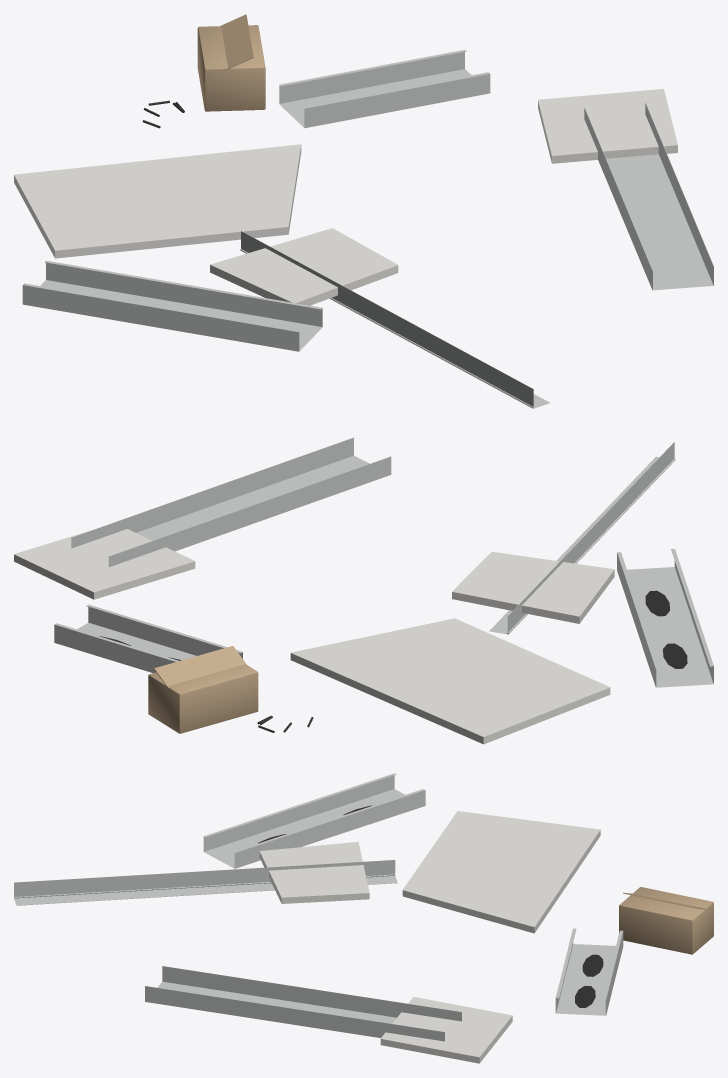
The model's file is Kit_TIScrap_B.fbx.
3 views of the same model, one above another, from view 1: azimuth 30°, elevation 25°; view 2: azimuth 150°, elevation 25°; view 3: azimuth 270°, elevation 25° (orthographic). The views are drawn at different scales.
Parts seen in each view (by area): view 1: Kit_TIScrap_B_LOD0; view 2: Kit_TIScrap_B_LOD0; view 3: Kit_TIScrap_B_LOD0.
Part boxes in pixels (bbox=[...]): Kit_TIScrap_B_LOD0: bbox=[14, 14, 713, 408]; Kit_TIScrap_B_LOD0: bbox=[14, 437, 713, 744]; Kit_TIScrap_B_LOD0: bbox=[14, 773, 713, 1063].
Size of what is drawn, in the model's own units: 1.18 by 0.0874 by 1.27.
